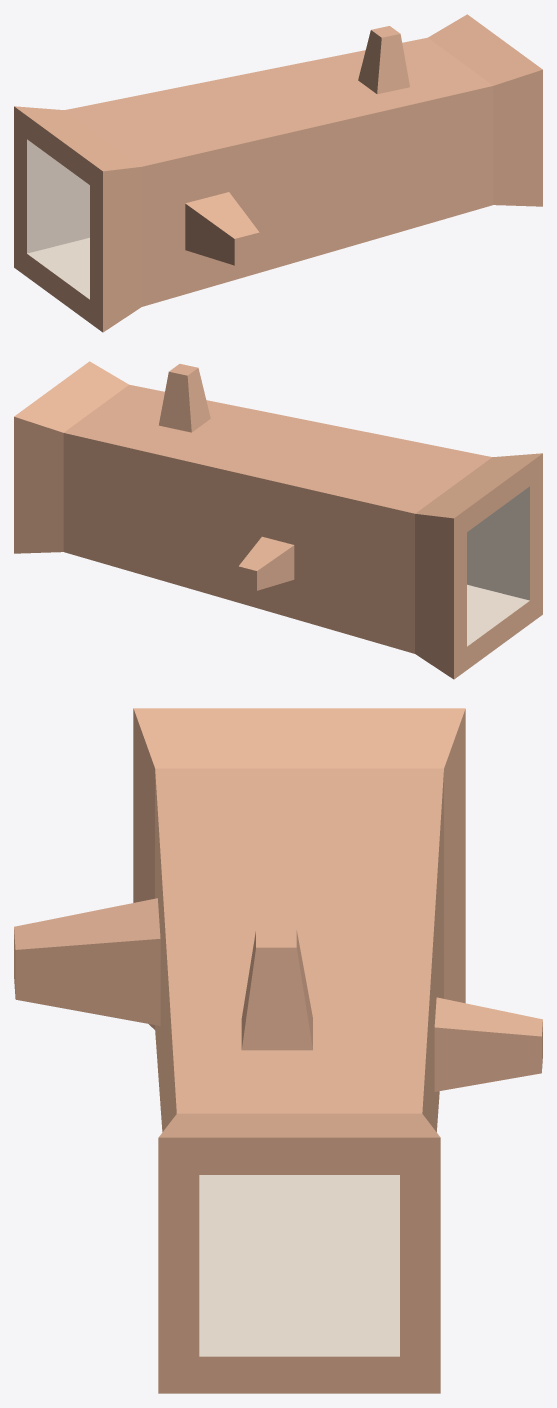
Rendered from log_large.glb.
The picture shows the model from 3 angles, top to bottom: view 1: azimuth 30°, elevation 25°; view 2: azimuth 150°, elevation 25°; view 3: azimuth 270°, elevation 25°; orthographic projection. The views are drawn at different scales.
Parts seen in each view (by area): view 1: log_large; view 2: log_large; view 3: log_large.
Part boxes in pixels (x1,y1,x2,y2): log_large: [14, 14, 542, 332]; log_large: [14, 361, 542, 679]; log_large: [14, 708, 542, 1393].
Size of the model in its own units: 1 by 0.4167 by 0.5493.
